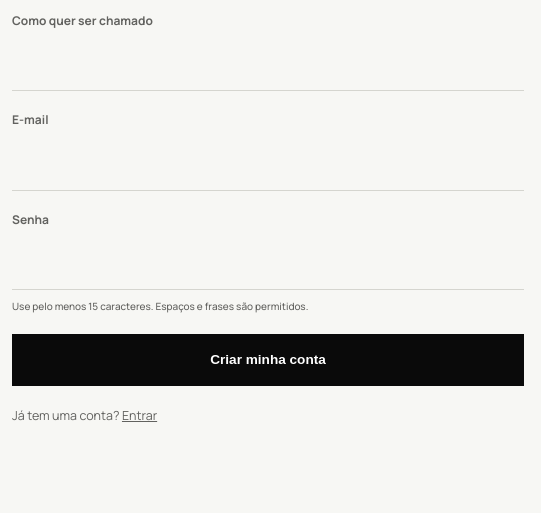
it: IdentityForm › mantém o cadastro acessível e exibe a resposta neutra da API
The image size is (541, 513).
Type "Ana" into the field labelled "Como quer ser chamado". click: (268, 65)
box: [12, 38, 524, 91]
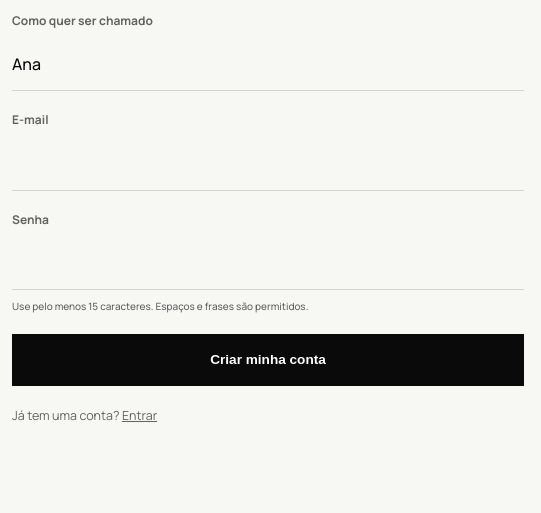
Type "ana@example.test" into the field labelled "E-mail". click: (268, 164)
box: [12, 137, 524, 191]
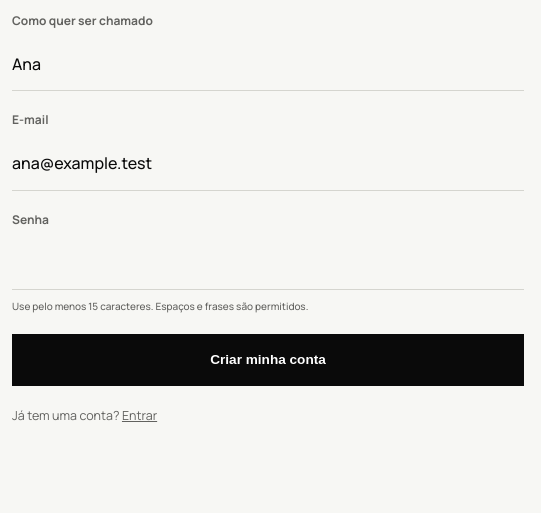
Type "uma senha longa e segura" into the password field labelled "Senha". click: (268, 263)
box: [12, 237, 524, 290]
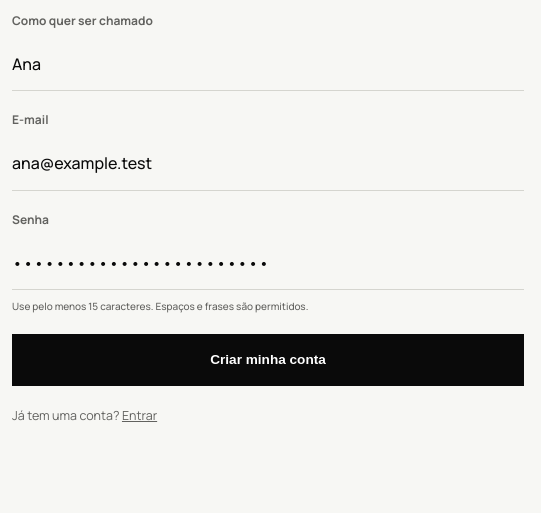
Click the button "Criar minha conta". click: (268, 360)
box: [12, 334, 524, 386]
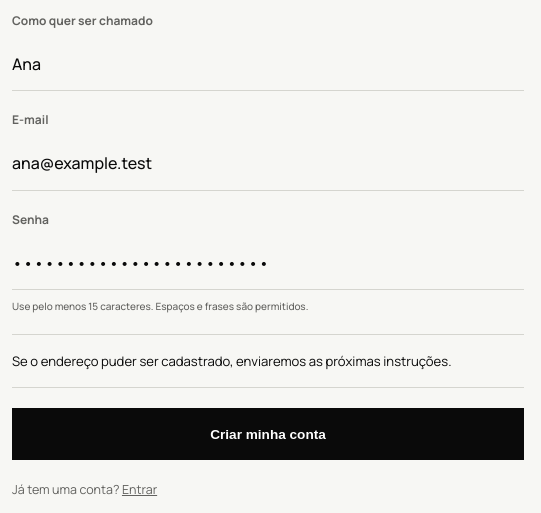
Now the message shows "Se o endereço puder ser cadastrado", box [12, 352, 452, 370]
